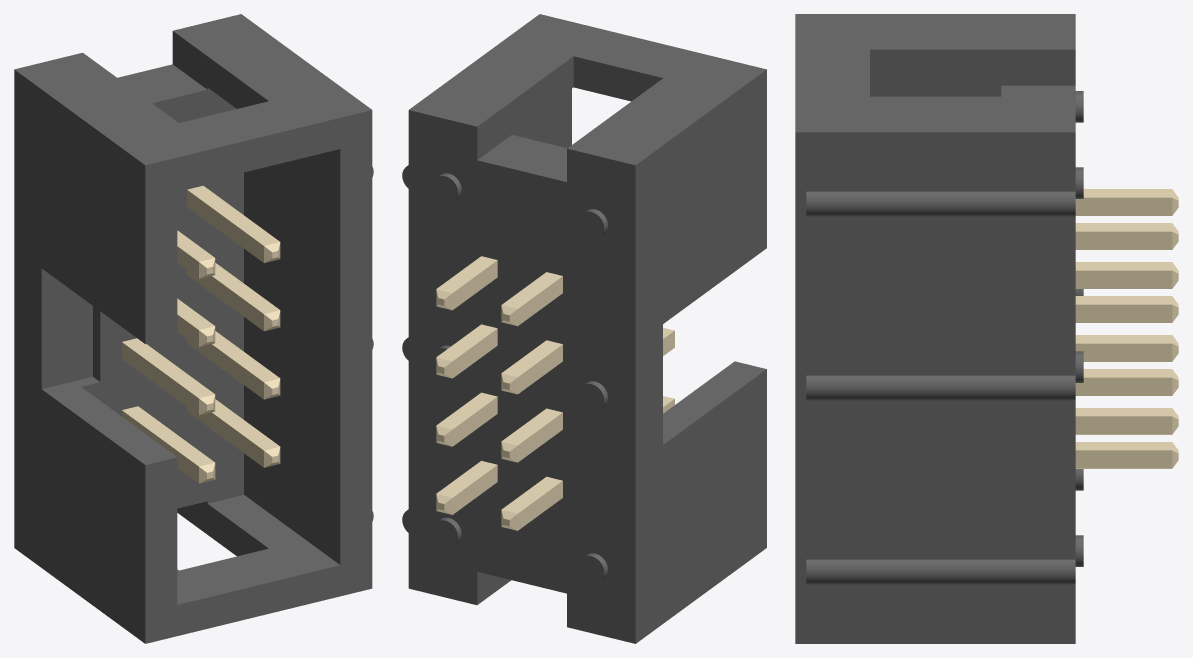
The model's file is IDC-Header_2x04_P2.54mm_Vertical.glb.
3 renders of one model, left to right at view 1: azimuth 30°, elevation 25°; view 2: azimuth 150°, elevation 25°; view 3: azimuth 270°, elevation 25°, orthographic. The views are drawn at different scales.
Parts seen in each view (by area): view 1: Shape_IndexedFaceSet, Shape_IndexedFaceSet.002, Shape_IndexedFaceSet.014, Shape_IndexedFaceSet.001, Shape_IndexedFaceSet.017, Shape_IndexedFaceSet.013, Shape_IndexedFaceSet.004, Shape_IndexedFaceSet.005, Shape_IndexedFaceSet.011, Shape_IndexedFaceSet.019, Shape_IndexedFaceSet.026, Shape_IndexedFaceSet.057 (+12 smaller); view 2: Shape_IndexedFaceSet.007, Shape_IndexedFaceSet, Shape_IndexedFaceSet.001, Shape_IndexedFaceSet.011, Shape_IndexedFaceSet.005, Shape_IndexedFaceSet.026, Shape_IndexedFaceSet.010, Shape_IndexedFaceSet.014, Shape_IndexedFaceSet.057, Shape_IndexedFaceSet.043, Shape_IndexedFaceSet.047, Shape_IndexedFaceSet.061 (+18 smaller); view 3: Shape_IndexedFaceSet.008, Shape_IndexedFaceSet.001, Shape_IndexedFaceSet.009, Shape_IndexedFaceSet.023, Shape_IndexedFaceSet.024, Shape_IndexedFaceSet.025, Shape_IndexedFaceSet.046, Shape_IndexedFaceSet.102, Shape_IndexedFaceSet.088, Shape_IndexedFaceSet.130, Shape_IndexedFaceSet.144, Shape_IndexedFaceSet.016 (+12 smaller).
Part boxes in pixels (box(x1,y1,x2,y2)): Shape_IndexedFaceSet: box(14, 70, 145, 643); Shape_IndexedFaceSet.002: box(145, 110, 372, 643); Shape_IndexedFaceSet.014: box(244, 149, 340, 564); Shape_IndexedFaceSet.001: box(14, 14, 371, 165); Shape_IndexedFaceSet.017: box(81, 88, 243, 508); Shape_IndexedFaceSet.013: box(177, 495, 339, 604); Shape_IndexedFaceSet.004: box(41, 268, 92, 388); Shape_IndexedFaceSet.005: box(42, 376, 176, 464); Shape_IndexedFaceSet.011: box(172, 31, 268, 108); Shape_IndexedFaceSet.019: box(177, 501, 268, 556); Shape_IndexedFaceSet.026: box(117, 64, 206, 103); Shape_IndexedFaceSet.057: box(122, 342, 198, 415); Shape_IndexedFaceSet.007: box(402, 110, 635, 643); Shape_IndexedFaceSet: box(635, 69, 766, 643); Shape_IndexedFaceSet.001: box(409, 14, 766, 165); Shape_IndexedFaceSet.011: box(477, 56, 573, 159); Shape_IndexedFaceSet.005: box(663, 361, 766, 444); Shape_IndexedFaceSet.026: box(477, 135, 566, 181); Shape_IndexedFaceSet.010: box(573, 56, 662, 101); Shape_IndexedFaceSet.014: box(512, 89, 571, 148); Shape_IndexedFaceSet.057: box(517, 330, 674, 462); Shape_IndexedFaceSet.043: box(517, 399, 674, 530); Shape_IndexedFaceSet.047: box(501, 396, 674, 513); Shape_IndexedFaceSet.061: box(501, 327, 674, 445); Shape_IndexedFaceSet.008: box(795, 132, 1075, 643); Shape_IndexedFaceSet.001: box(795, 14, 1075, 132); Shape_IndexedFaceSet.009: box(870, 49, 1075, 85); Shape_IndexedFaceSet.023: box(806, 559, 1075, 584); Shape_IndexedFaceSet.024: box(806, 375, 1075, 400); Shape_IndexedFaceSet.025: box(806, 191, 1075, 216); Shape_IndexedFaceSet.046: box(1075, 416, 1172, 434); Shape_IndexedFaceSet.102: box(1075, 450, 1172, 468); Shape_IndexedFaceSet.088: box(1075, 270, 1172, 288); Shape_IndexedFaceSet.130: box(1075, 231, 1172, 249); Shape_IndexedFaceSet.144: box(1075, 304, 1172, 322); Shape_IndexedFaceSet.016: box(870, 83, 1001, 96).
Size of the model in its own units: 3.58 by 7.02 by 4.76.
